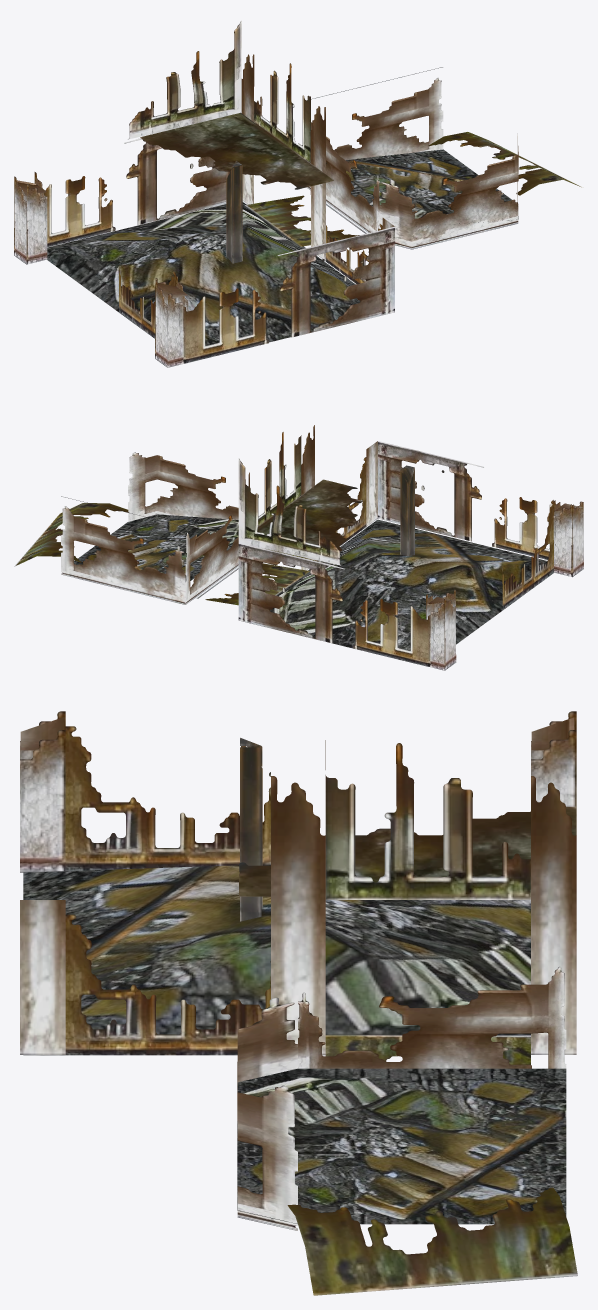
File: l_gatecontrol_dam_hdtex.glb
3 views of the same model, one above another, from view 1: azimuth 30°, elevation 25°; view 2: azimuth 150°, elevation 25°; view 3: azimuth 270°, elevation 25° (orthographic). The views are drawn at different scales.
Parts seen in each view (by area): view 1: L_GateControlDam; view 2: L_GateControlDam; view 3: L_GateControlDam.
Boxes of the visible parts, box(x1,y1,x2,y2) form: L_GateControlDam: box(14, 21, 581, 367); L_GateControlDam: box(14, 425, 583, 670); L_GateControlDam: box(20, 711, 577, 1295).
Size of the model in its own units: 24.3 by 8.72 by 13.03.
2 materials, 2 textured.
